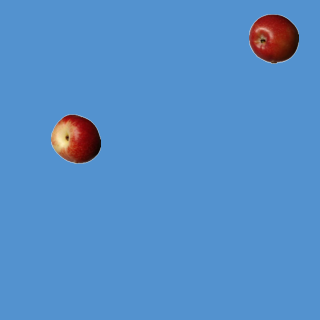Apple Braeburn: (248, 13, 298, 63)
Nectarine: (50, 113, 100, 163)
